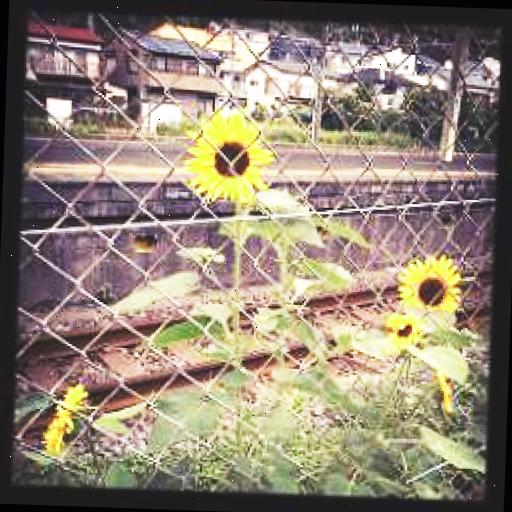sunflower: (181, 110, 276, 208), (395, 256, 465, 316), (386, 314, 418, 349)
